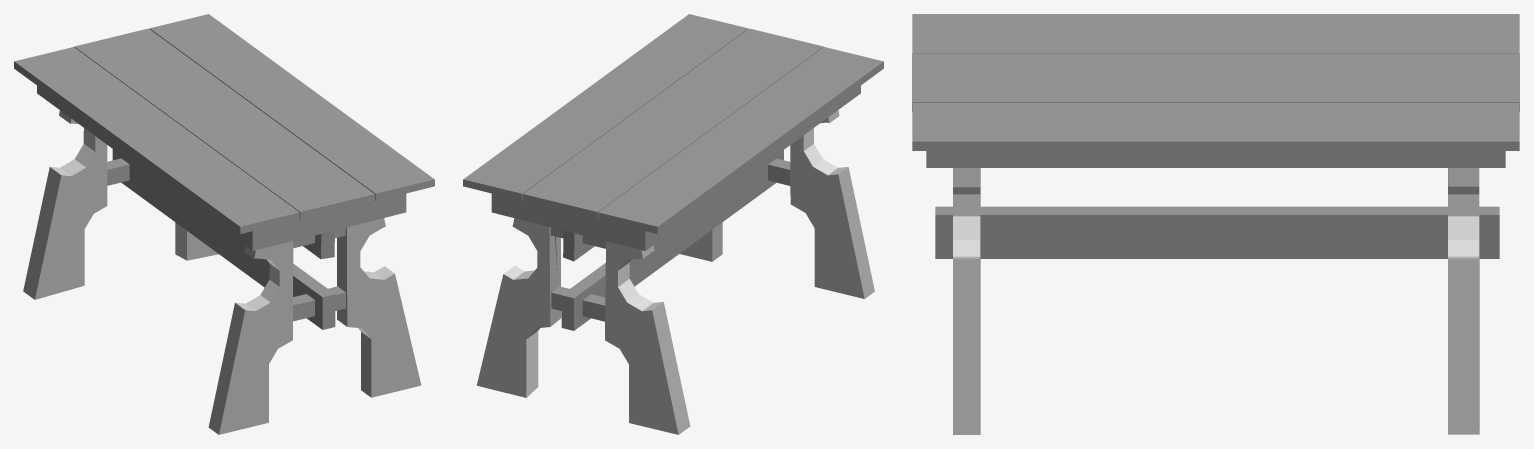
Rendered from PT_Church_Table_01.fbx.
3 renders of one model, left to right at view 1: azimuth 30°, elevation 25°; view 2: azimuth 150°, elevation 25°; view 3: azimuth 270°, elevation 25°, orthographic. The views are drawn at different scales.
Visible parts, largest first — view 1: PT_Church_Table_01; view 2: PT_Church_Table_01; view 3: PT_Church_Table_01.
Part boxes in pixels (left/top/right/bottom): PT_Church_Table_01: left=14, top=14, right=434, bottom=434; PT_Church_Table_01: left=463, top=14, right=883, bottom=434; PT_Church_Table_01: left=912, top=14, right=1519, bottom=434.
Size of the model in its own units: 107 by 110 by 208.
